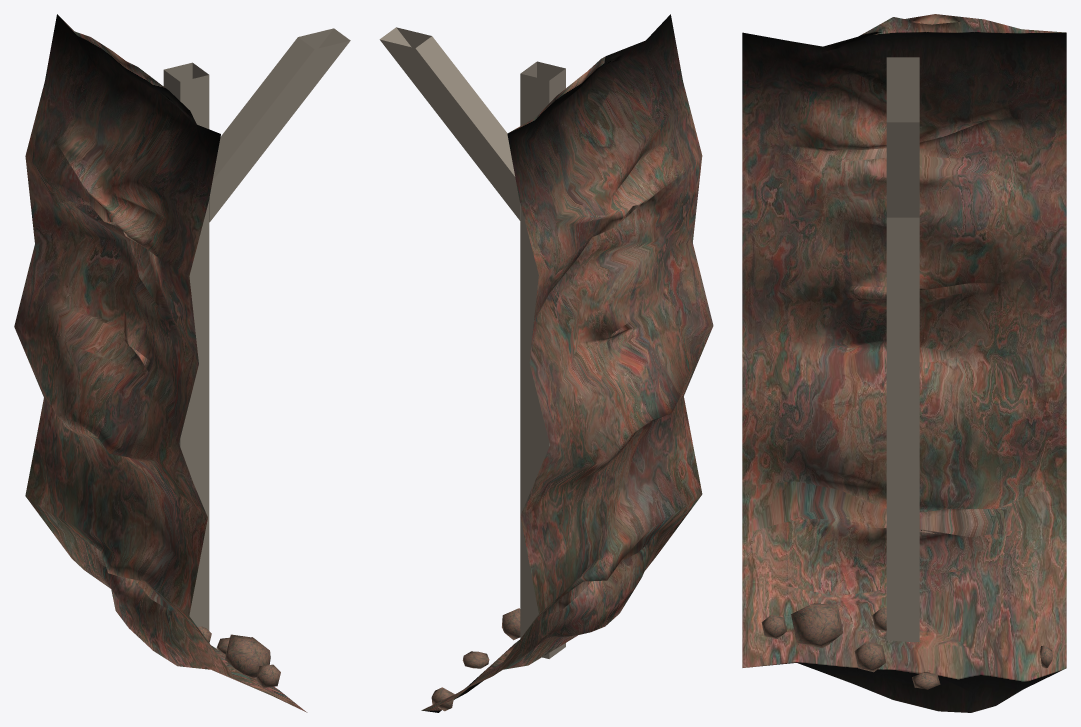
File: cave_minewalls_wallstud.glb
3 views of the same model, side by side, from view 1: azimuth 30°, elevation 25°; view 2: azimuth 150°, elevation 25°; view 3: azimuth 270°, elevation 25° (orthographic).
Visible parts, largest first — view 1: wallstud-col; view 2: wallstud-col; view 3: wallstud-col.
Part boxes in pixels (bbox=[...]): wallstud-col: bbox=[14, 14, 350, 712]; wallstud-col: bbox=[379, 14, 713, 712]; wallstud-col: bbox=[742, 14, 1066, 712].
Bounding box in the file's own units: 1.82 × 4.36 × 2.
Materials: 3 (2 with a texture image).
